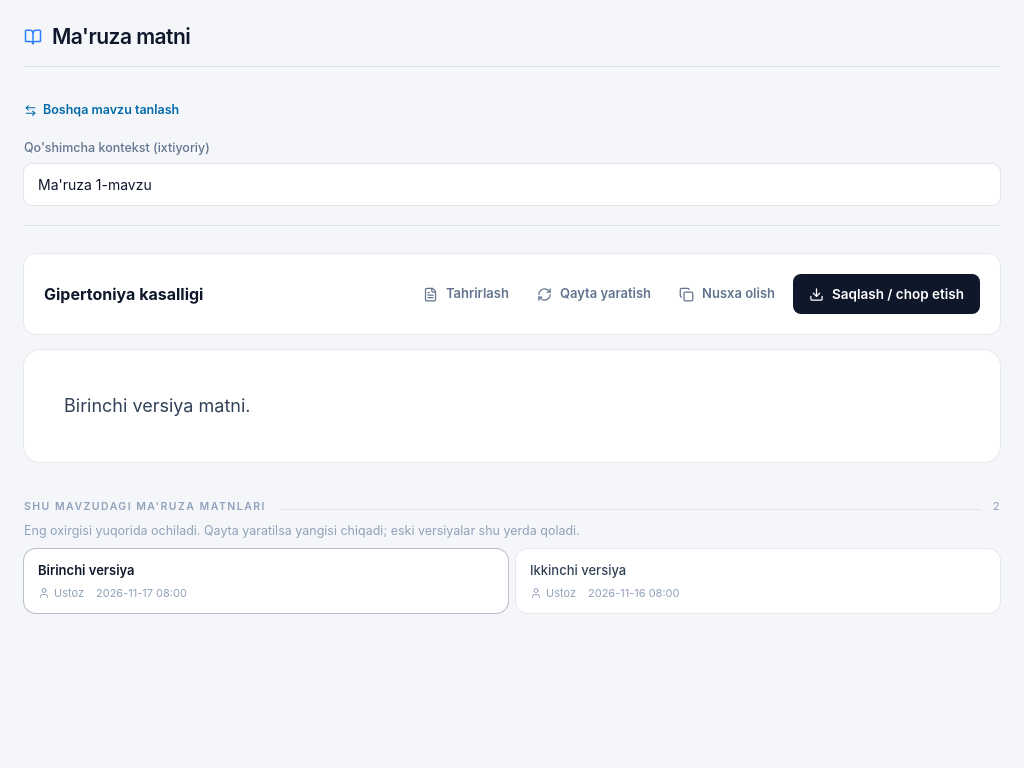
Scenario: LectureNotes — Baza xatolari › Bazadagi versiya ochilmasa — xato ko‘rsatiladi (jim emas)
This screenshot has width=1024, height=768.
Check: the text "Birinchi versiya matni." is shown, box [64, 395, 250, 416]
Click the text "Ikkinchi versiya".
click(578, 570)  # box [530, 562, 626, 578]
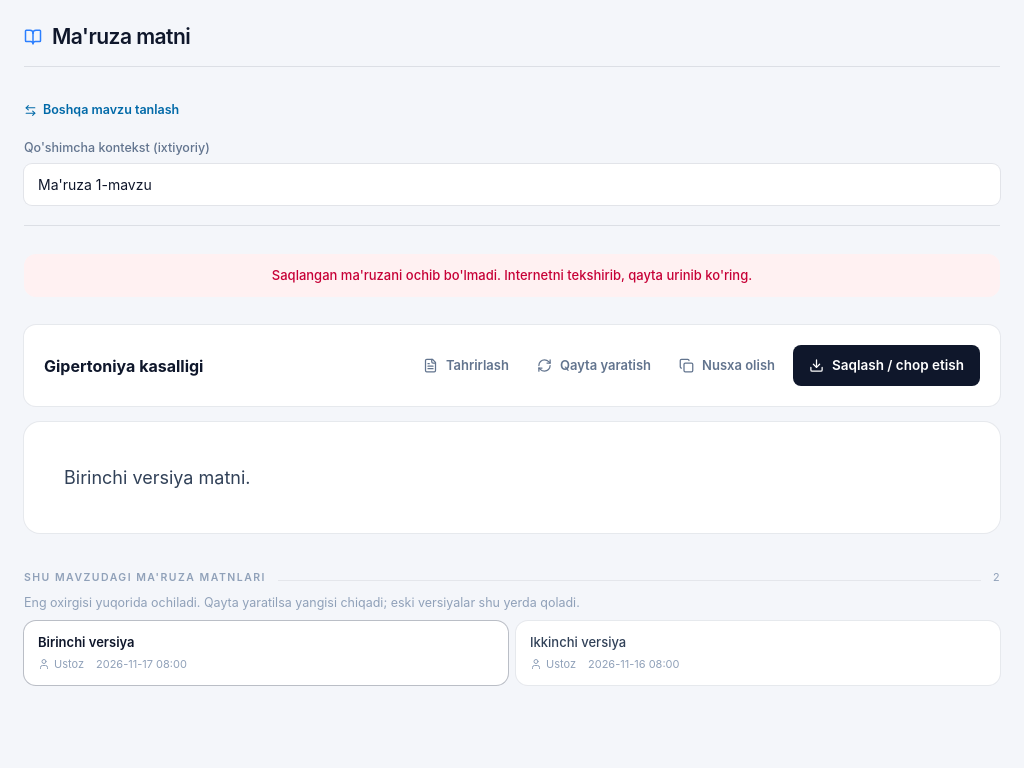
Check: the text "Birinchi versiya matni." is shown, box [64, 467, 250, 488]
Check: the text "Saqlangan ma'ruzani ochib bo'lmadi" is shown, box [272, 267, 752, 283]
